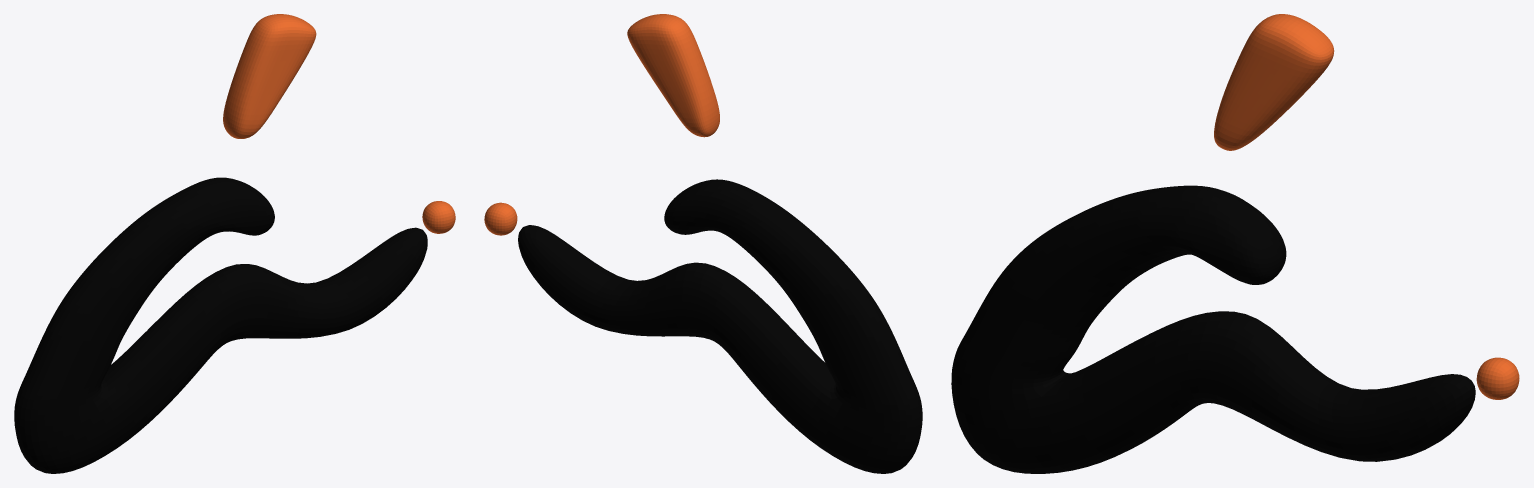
File: laevolu.gltf
3 views of the same model, side by side, from view 1: azimuth 30°, elevation 25°; view 2: azimuth 150°, elevation 25°; view 3: azimuth 330°, elevation 25° (orthographic). The views are drawn at different scales.
Parts seen in each view (by area): view 1: Laevoluciona; view 2: Laevoluciona; view 3: Laevoluciona.
Boxes of the visible parts, box(x1,y1,x2,y2) form: Laevoluciona: box(14, 14, 455, 473); Laevoluciona: box(484, 14, 922, 473); Laevoluciona: box(951, 14, 1519, 473).
Size of the model in its own units: 6.62 by 5.85 by 0.7738.
